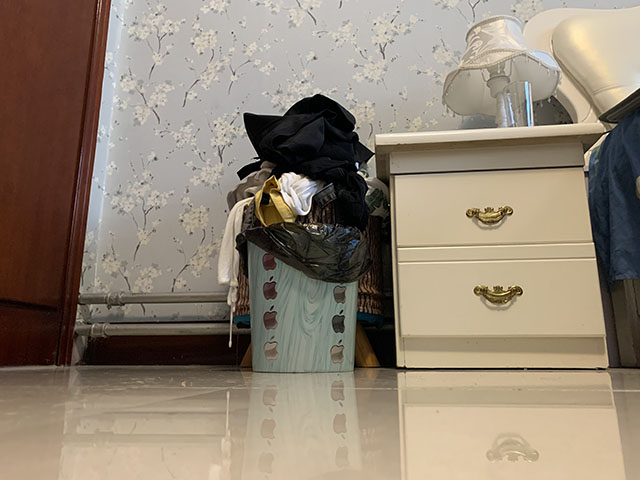cabinet: (373, 120, 611, 372)
trashcan: (234, 221, 375, 374)
